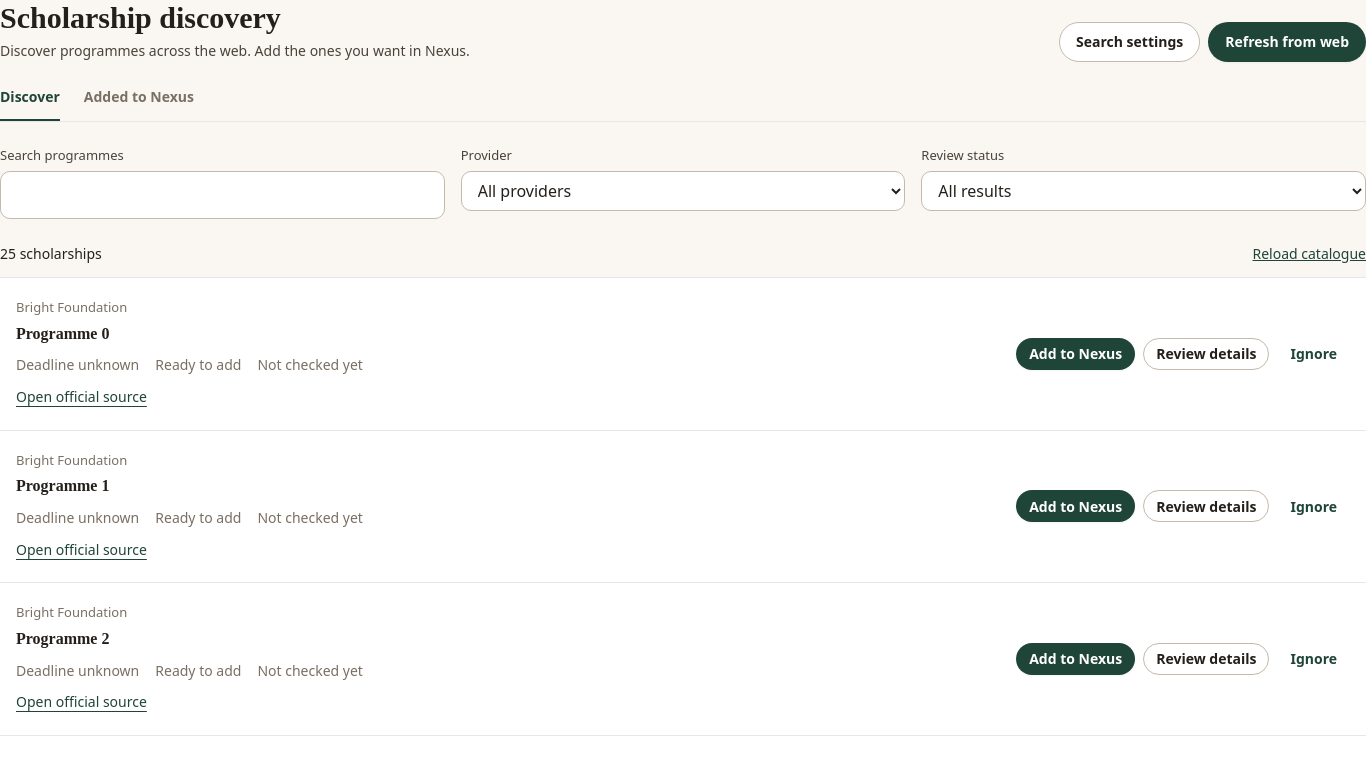
Test: adds one programme and exposes monitoring in Added to Nexus
Expected: the text "25 scholarships" is shown, [0, 243, 102, 265]
Click the button "Add to Nexus" in the row of "Programme 0" at (1076, 354), box [1016, 338, 1135, 370]
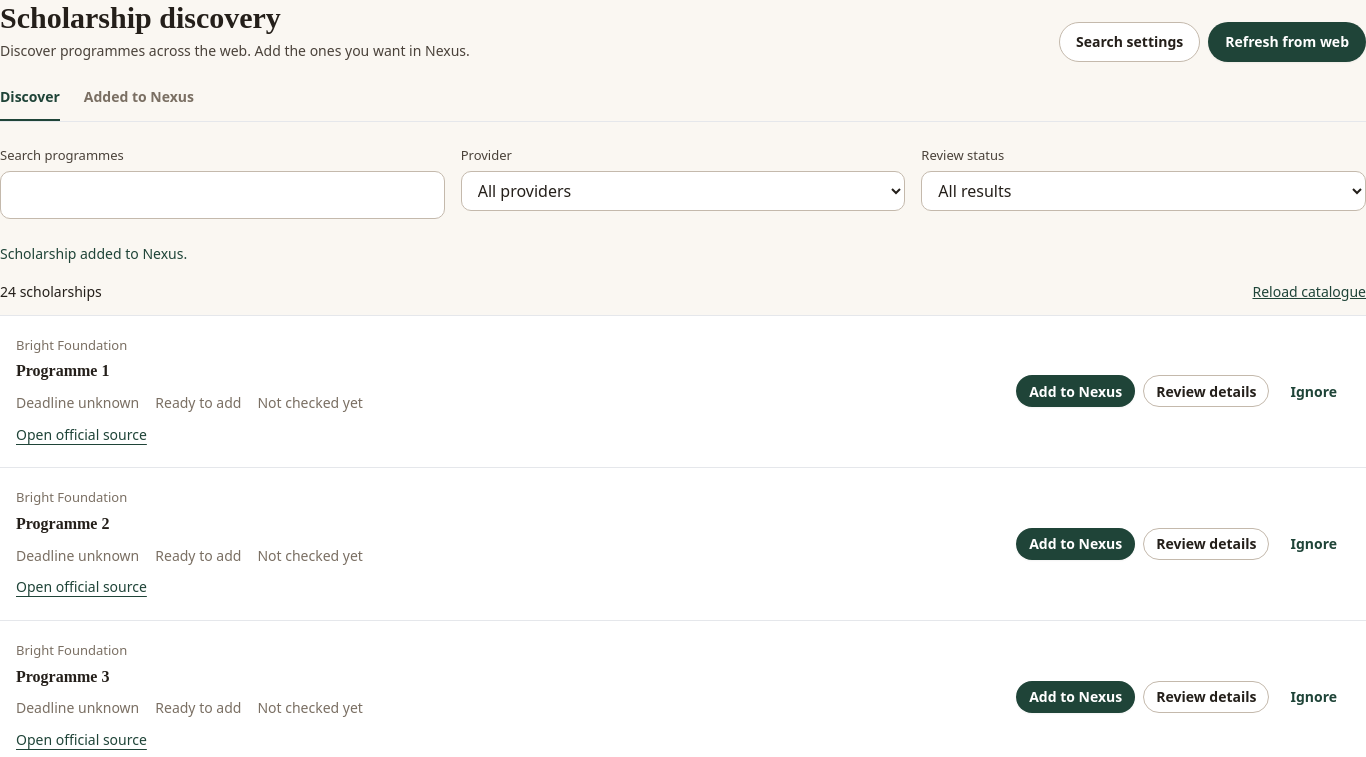
Result: the text "Scholarship added to Nexus." is shown at [0, 244, 187, 263]
Click the tab "Added to Nexus" at (139, 104), box [84, 86, 194, 121]
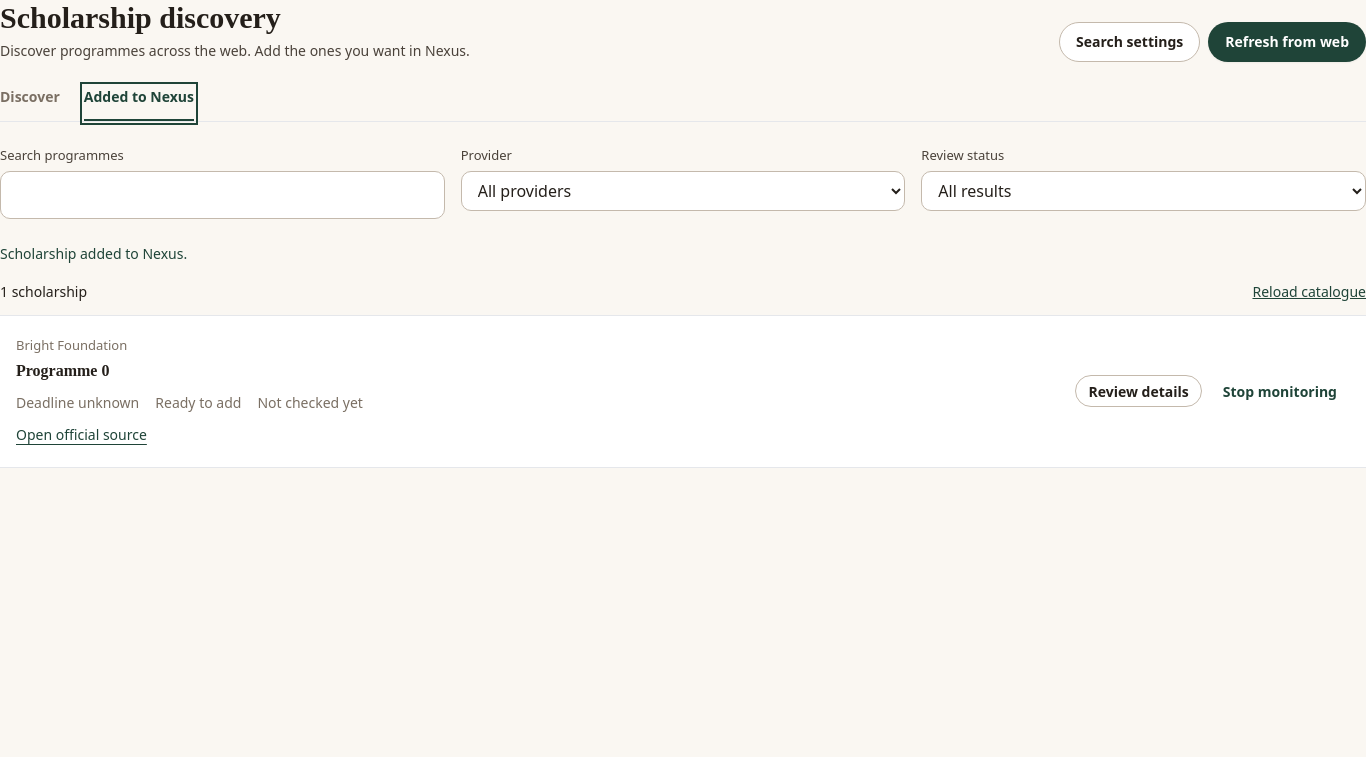
Expected: the text "Deadline unknown" is shown, [16, 392, 139, 414]
Result: the button "Stop monitoring" is shown
Click the button "Stop monitoring" at (1280, 392), box [1210, 376, 1350, 408]
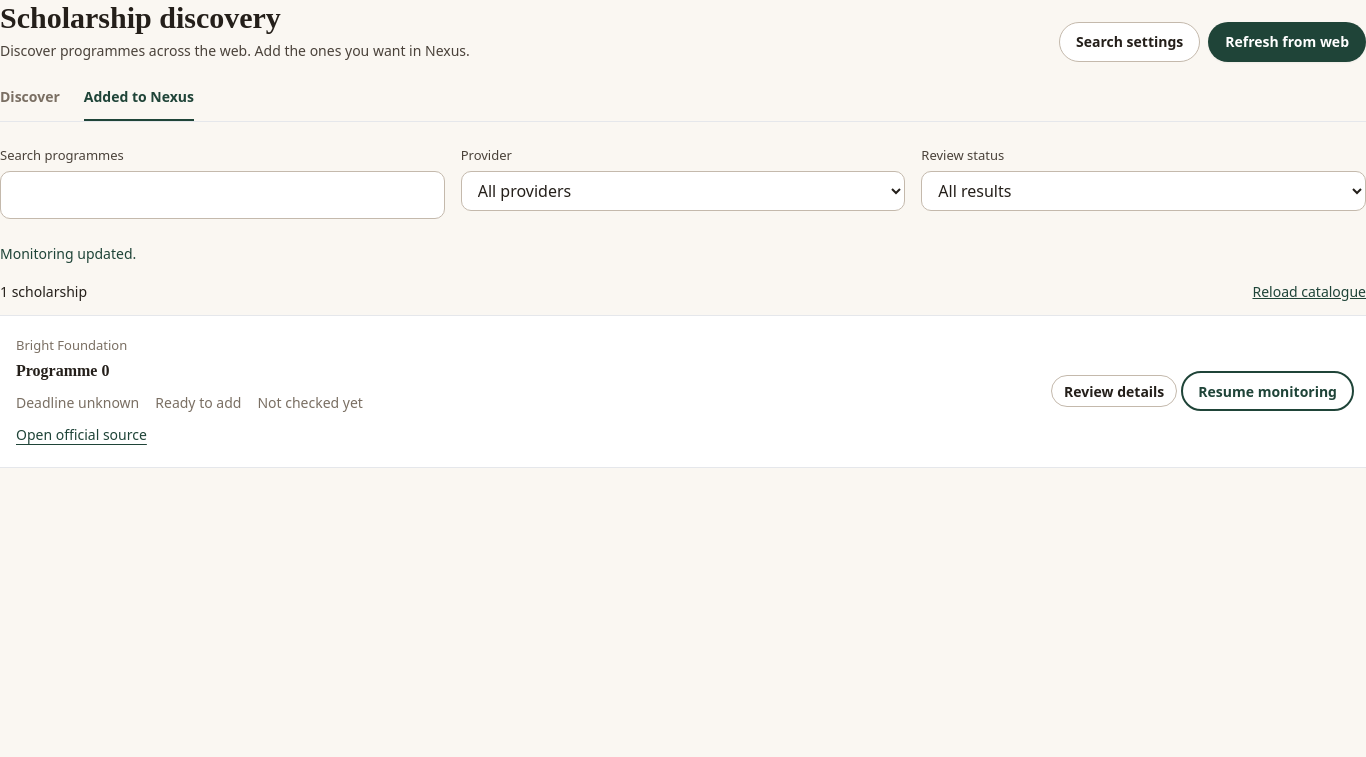
Result: the button "Resume monitoring" is shown at [1185, 376, 1350, 408]
